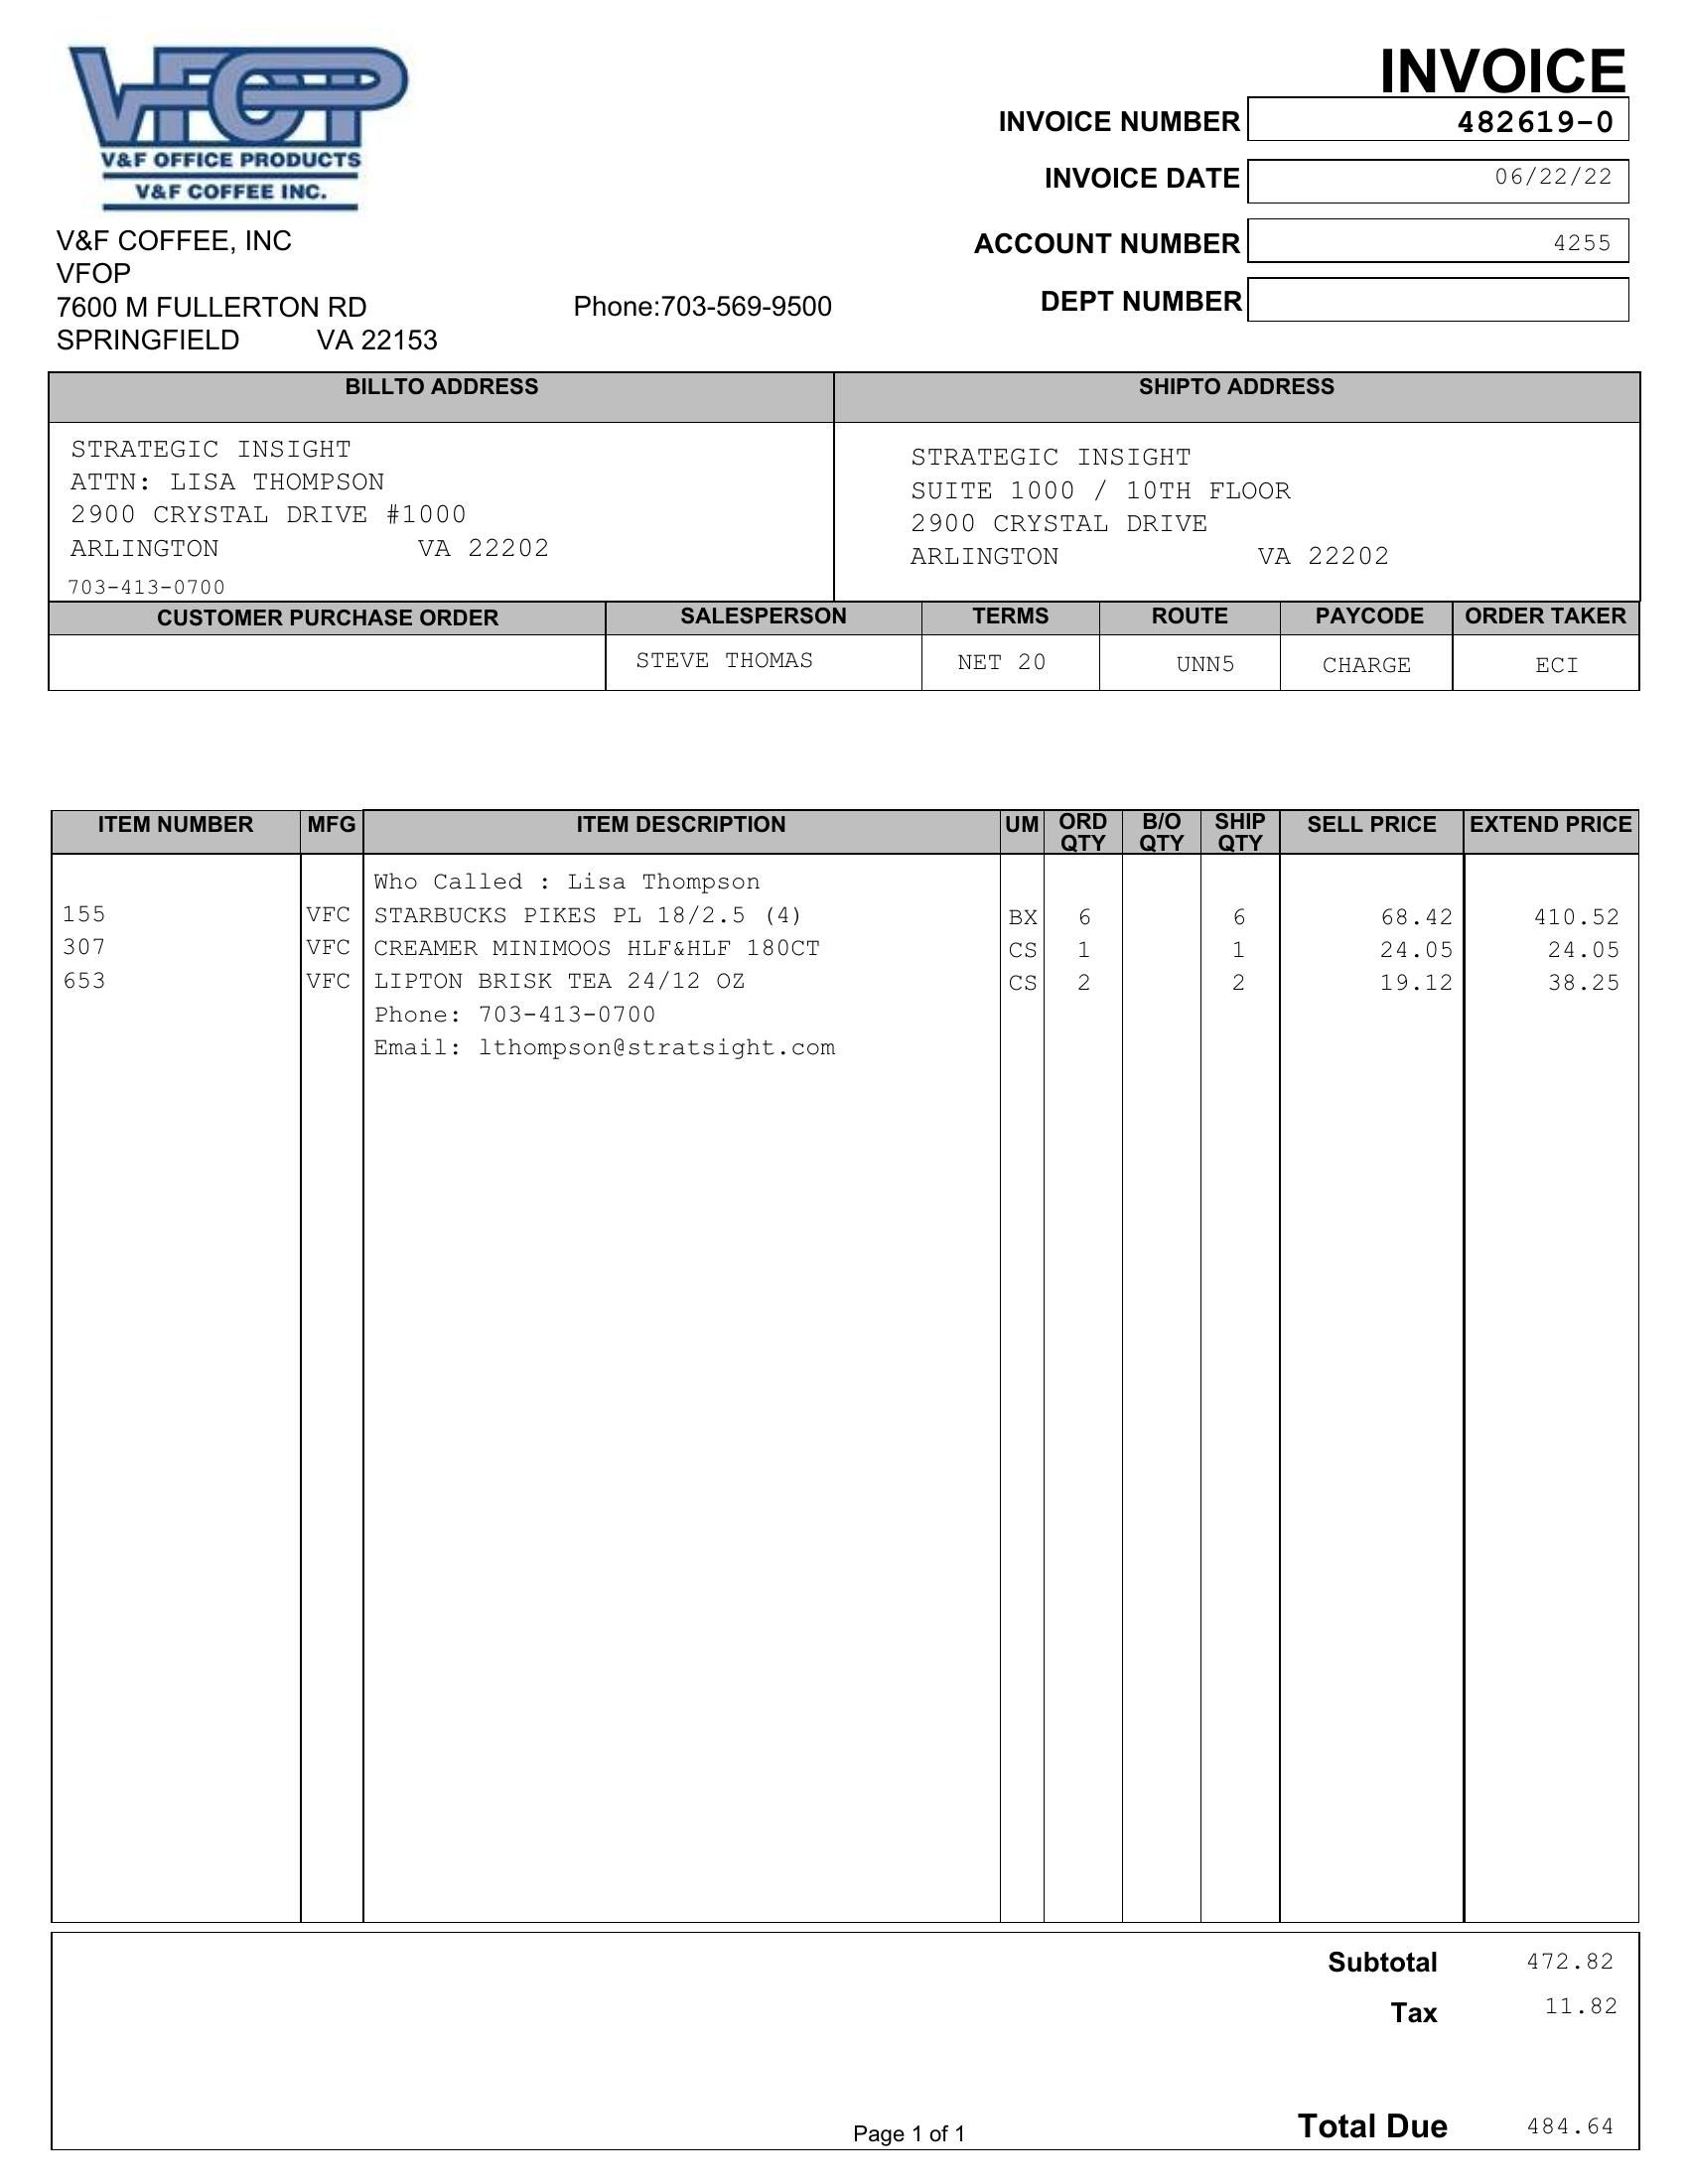table: (34, 801, 1672, 1934), (50, 599, 1651, 697)
